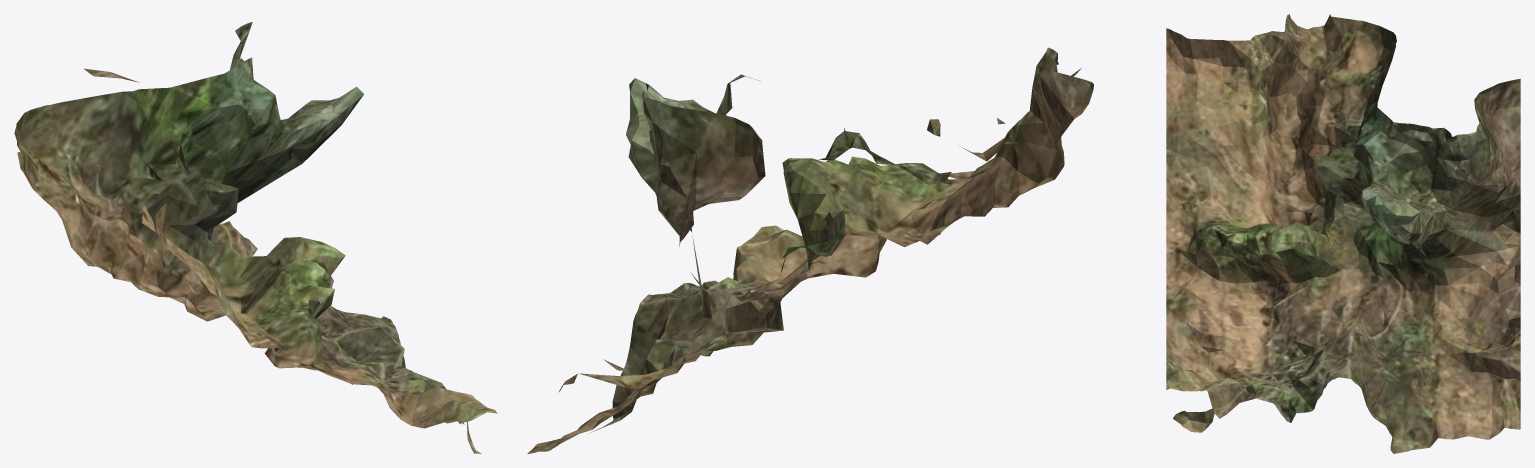
3 renders of one model, left to right at view 1: azimuth 30°, elevation 25°; view 2: azimuth 150°, elevation 25°; view 3: azimuth 270°, elevation 25°, orthographic. The views are drawn at different scales.
Size of the model in its own units: 2.95 by 2.66 by 2.95.
4 materials, 4 textured.
